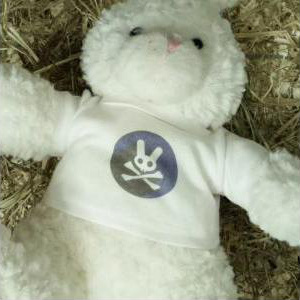bunny: (109, 130, 179, 200)
